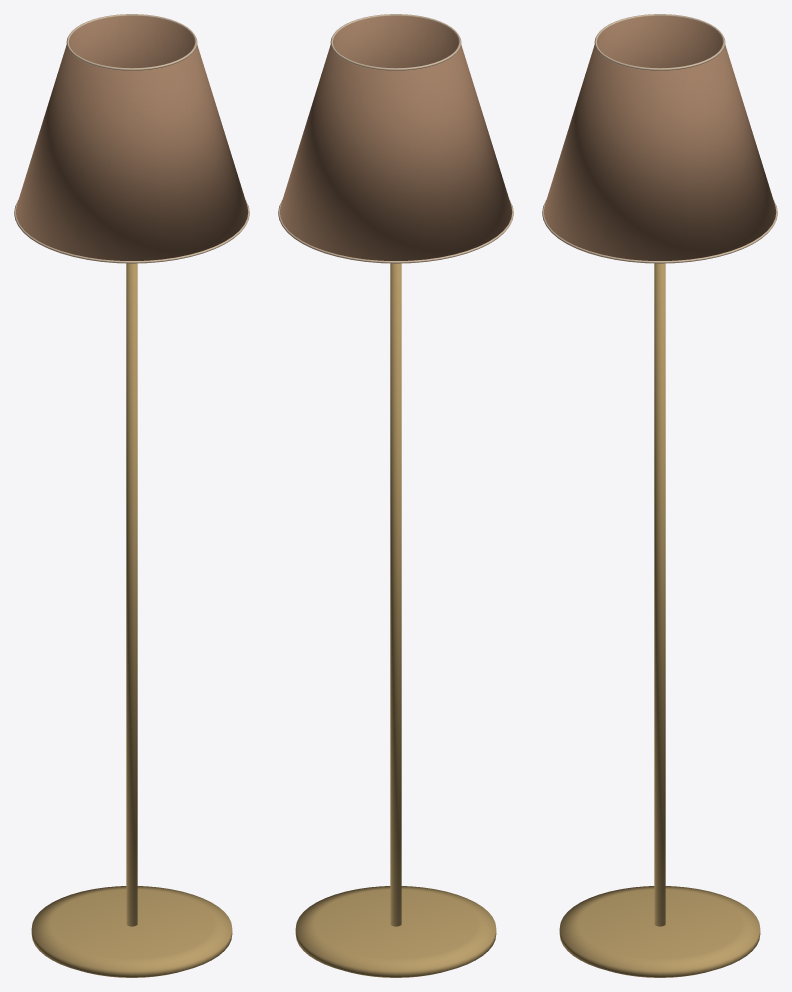
Rendered from traditional.floor_lamp.gltf.
The picture shows the model from 3 angles, left to right: view 1: azimuth 30°, elevation 25°; view 2: azimuth 150°, elevation 25°; view 3: azimuth 270°, elevation 25°; orthographic projection.
Parts seen in each view (by area): view 1: traditional.floor_lamp.foot; view 2: traditional.floor_lamp.foot; view 3: traditional.floor_lamp.foot.
Part boxes in pixels (bbox=[...]): traditional.floor_lamp.foot: bbox=[14, 14, 249, 977]; traditional.floor_lamp.foot: bbox=[278, 14, 513, 977]; traditional.floor_lamp.foot: bbox=[542, 14, 777, 977].
Bounding box in the file's own units: 0.364 × 1.53 × 0.364.
Materials: 4 (1 with a texture image).
